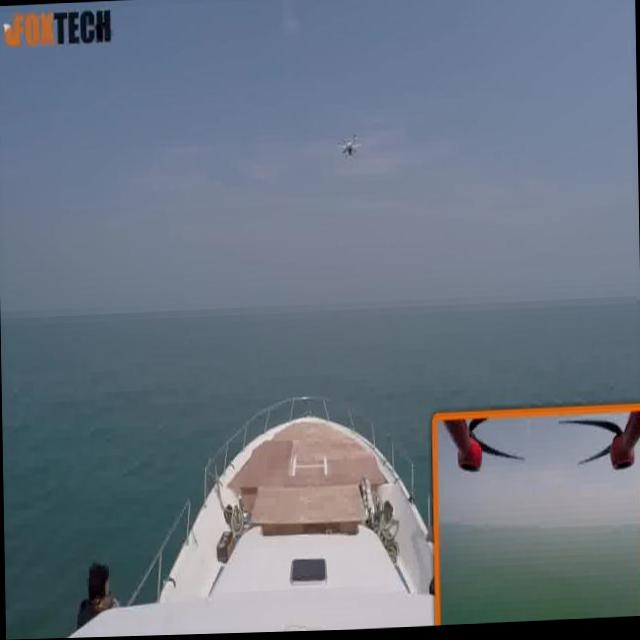drone: (334, 132, 368, 172)
